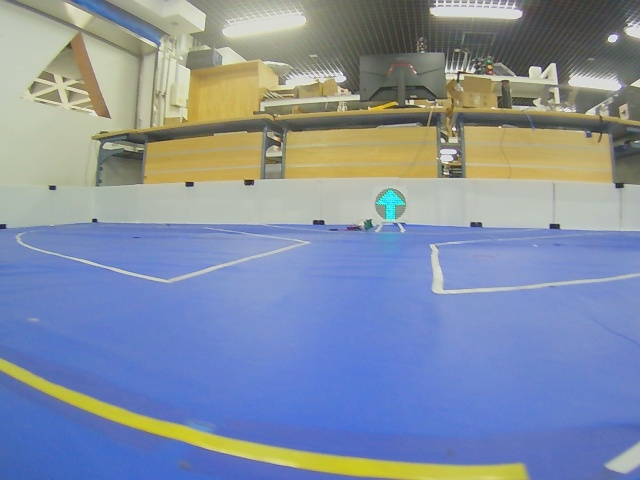straight_green: (375, 188, 406, 221)
